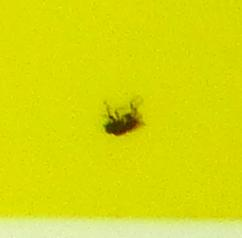Brachycera: (100, 100, 142, 138)
